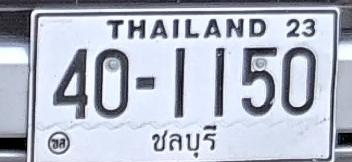0: (94, 48, 129, 118), (282, 45, 316, 114)
1: (213, 46, 226, 116), (174, 47, 185, 116)
4: (53, 48, 88, 118)
5: (241, 46, 277, 115)
CBI: (146, 123, 219, 162)
